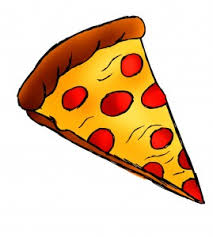pizza: (14, 14, 203, 213)
